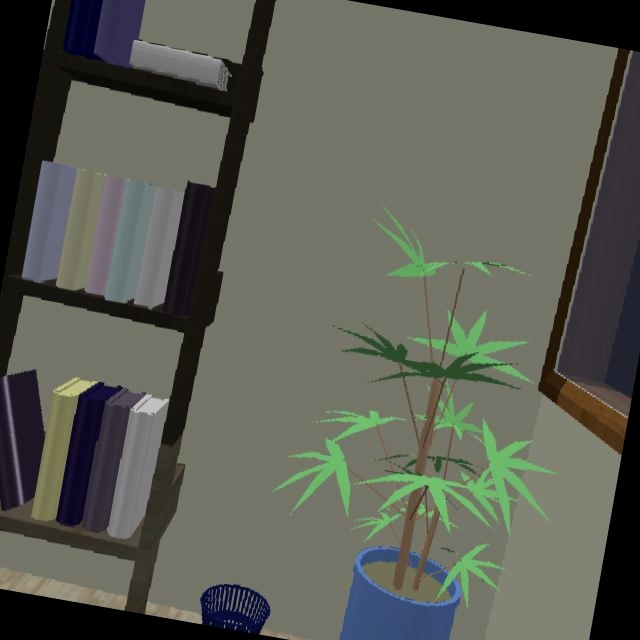book: (30, 377, 96, 520), (56, 382, 120, 526), (82, 388, 144, 532), (107, 395, 167, 538), (22, 161, 76, 281), (0, 370, 45, 509), (104, 180, 154, 301), (56, 168, 105, 290), (134, 188, 183, 308), (85, 176, 125, 294), (129, 41, 229, 88)
shelf: (0, 0, 275, 611)
